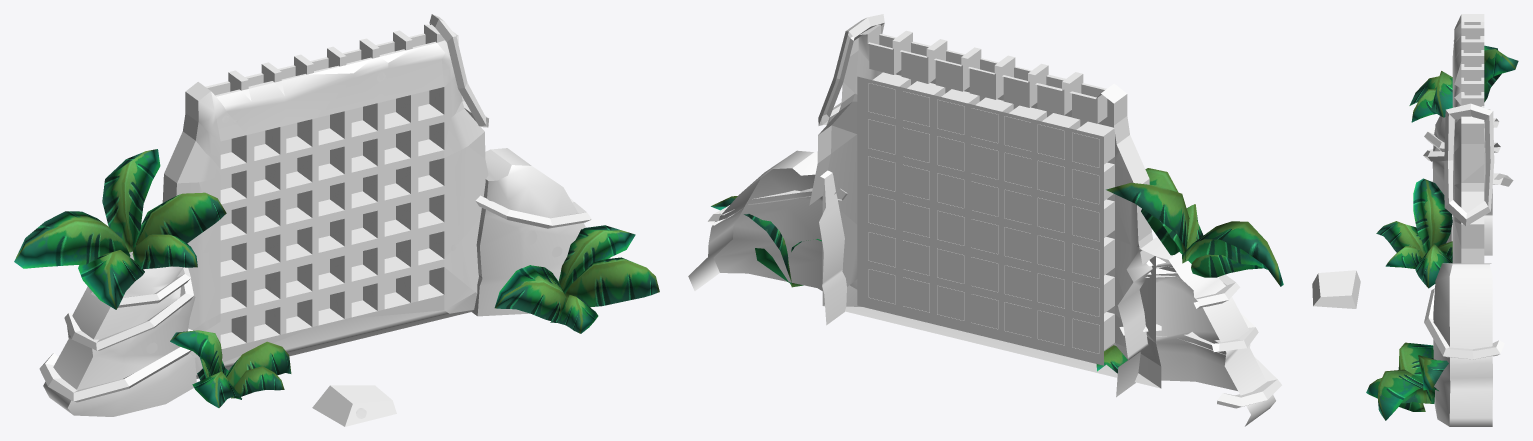
File: FindFourBoard.fbx
3 renders of one model, left to right at view 1: azimuth 30°, elevation 25°; view 2: azimuth 150°, elevation 25°; view 3: azimuth 270°, elevation 25°, orthographic. The views are drawn at different scales.
Parts seen in each view (by area): view 1: findFourGameBoard, findFourBushes; view 2: findFourGameBoard, findFourBushes; view 3: findFourGameBoard, findFourBushes.
Part boxes in pixels (box(x1,y1,x2,y2)): findFourGameBoard: box(39, 14, 591, 426); findFourBushes: box(14, 149, 659, 407); findFourGameBoard: box(688, 14, 1281, 426); findFourBushes: box(711, 168, 1283, 373); findFourGameBoard: box(1312, 14, 1513, 426); findFourBushes: box(1366, 45, 1518, 420).
Size of the model in its own units: 164 by 81.58 by 57.27.
